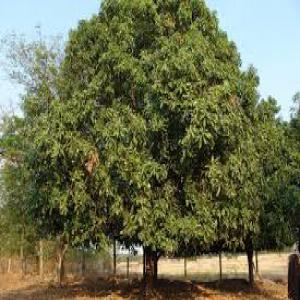Tree: (24, 2, 280, 282)
